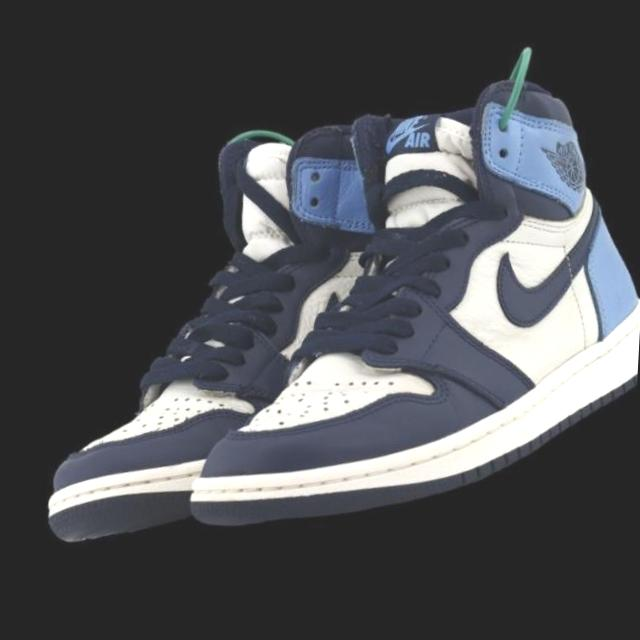nike_original_jordan: (71, 24, 640, 587), (0, 86, 479, 580)
